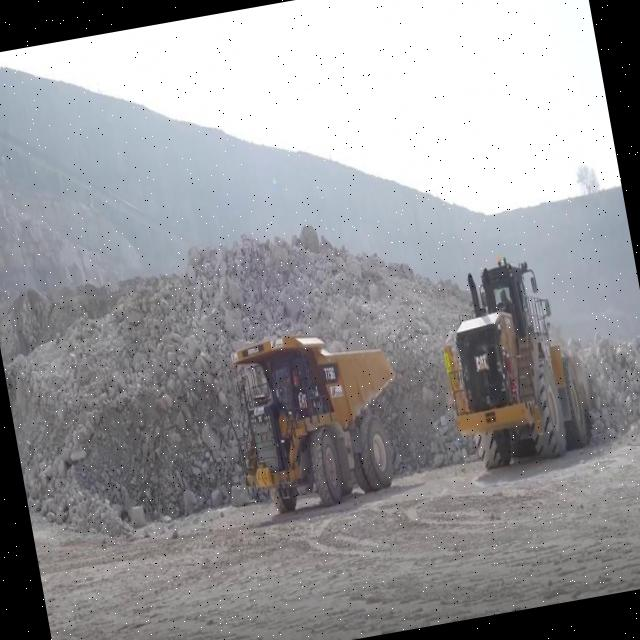Dump Truck: (216, 312, 416, 520)
Loader: (425, 239, 602, 478)
